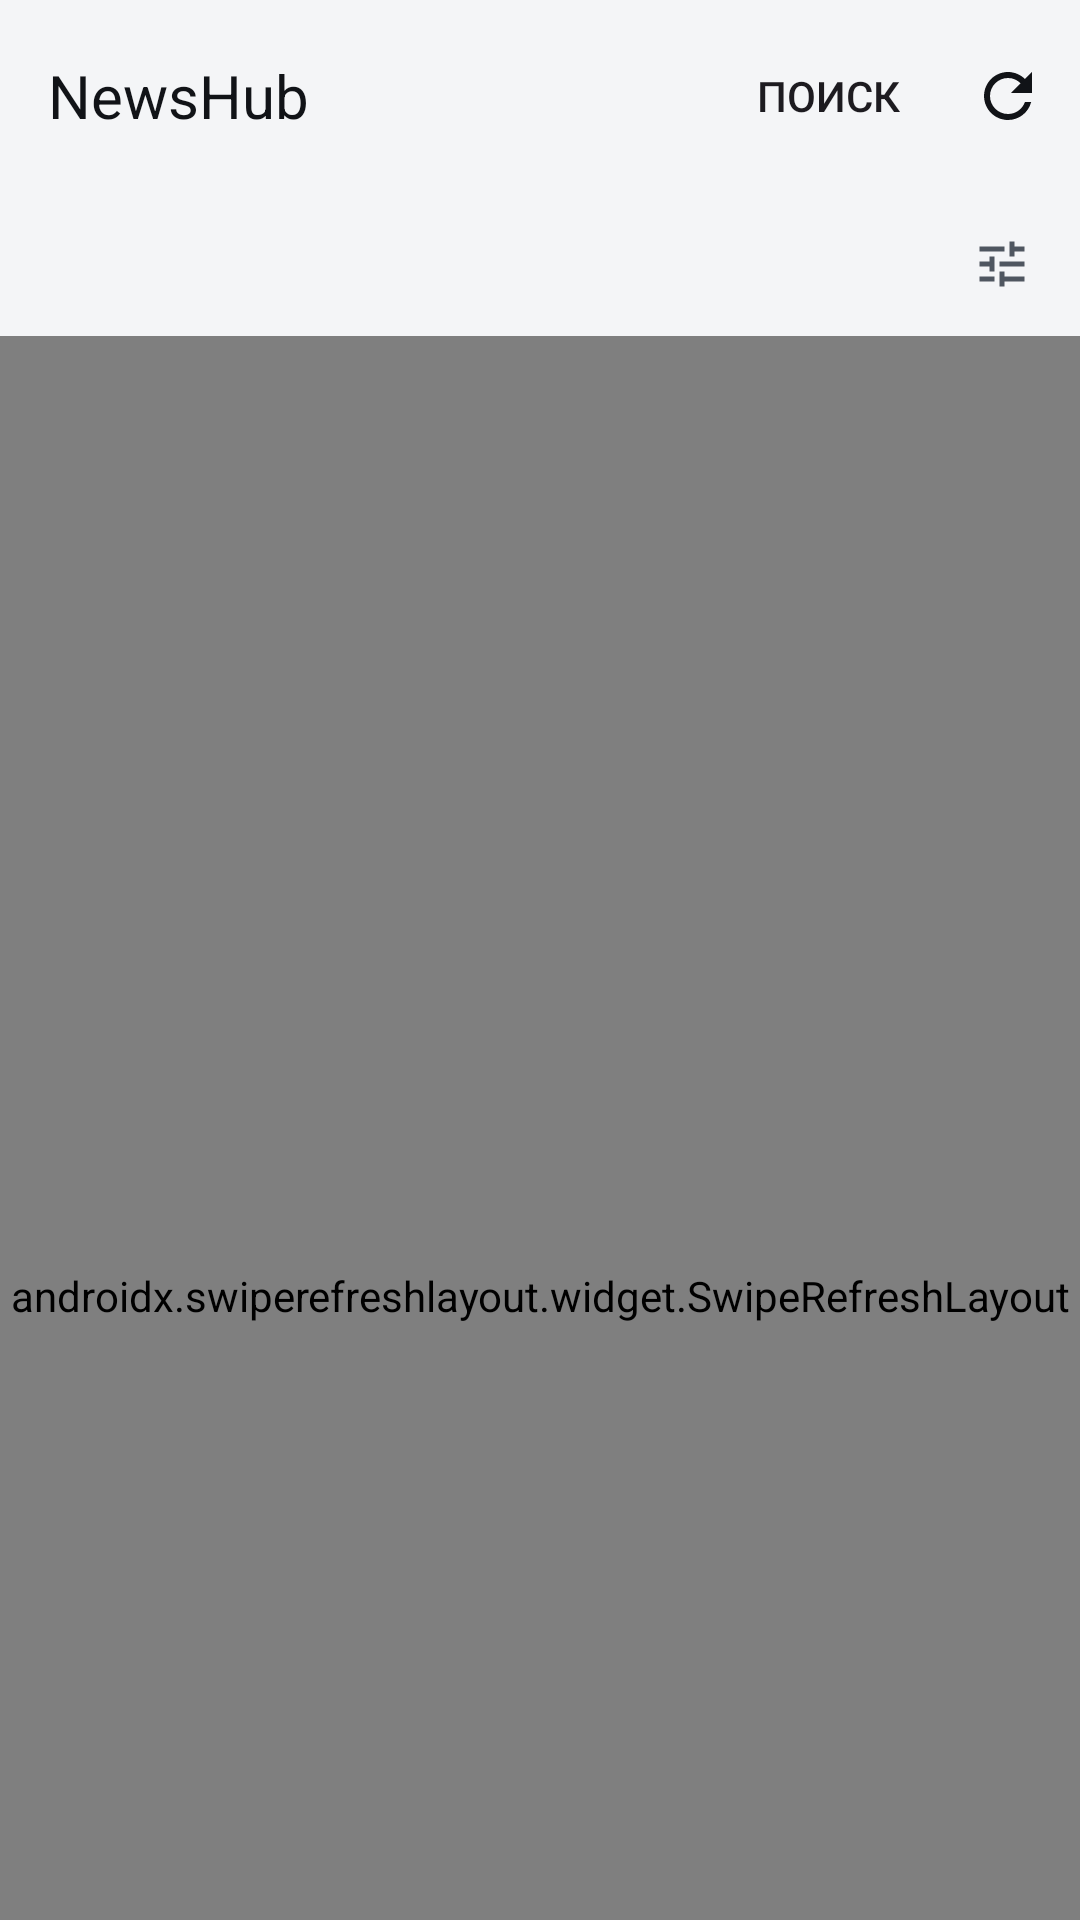

Icons on this 1080 × 1920 Android screen, each with its box as BBox(x1, y1, x2, y2):
tune: BBox(979, 241, 1025, 287)
